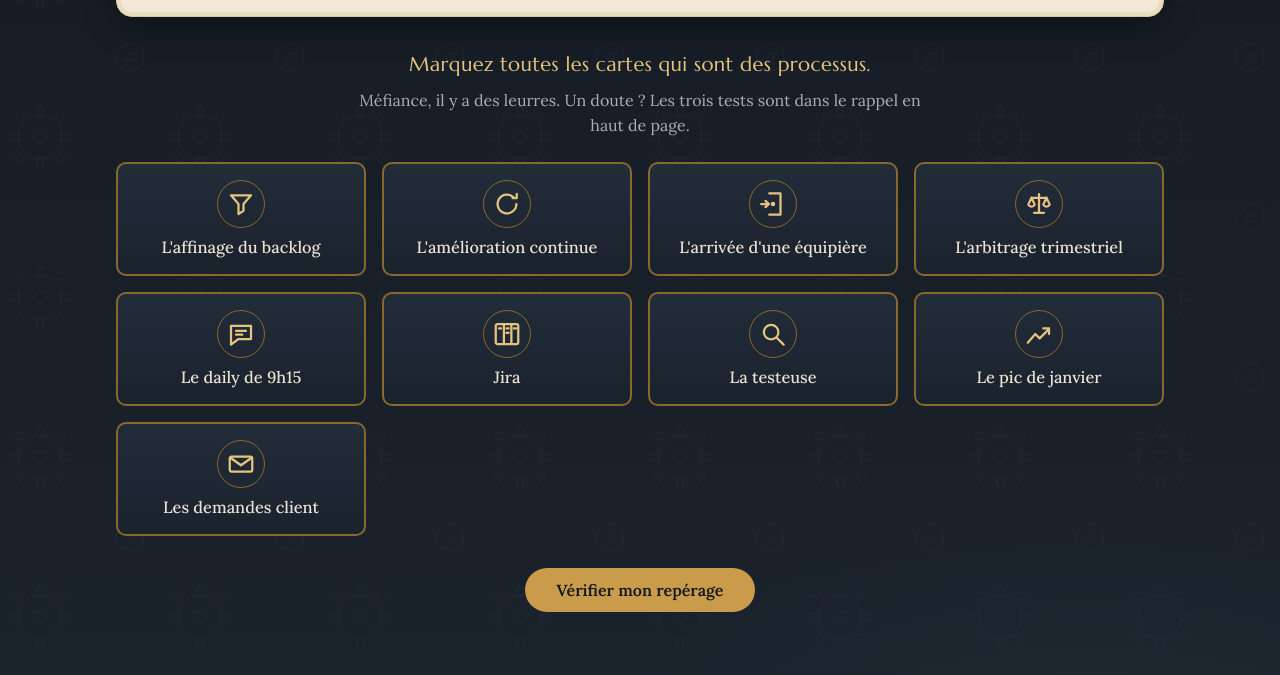
Test: SpottingBoard › révèle le tampon de nature et le pourquoi sur un leurre coché
The image size is (1280, 675).
(page scrolled)
Click the button "Jira" at (507, 349), box [382,292,632,406]
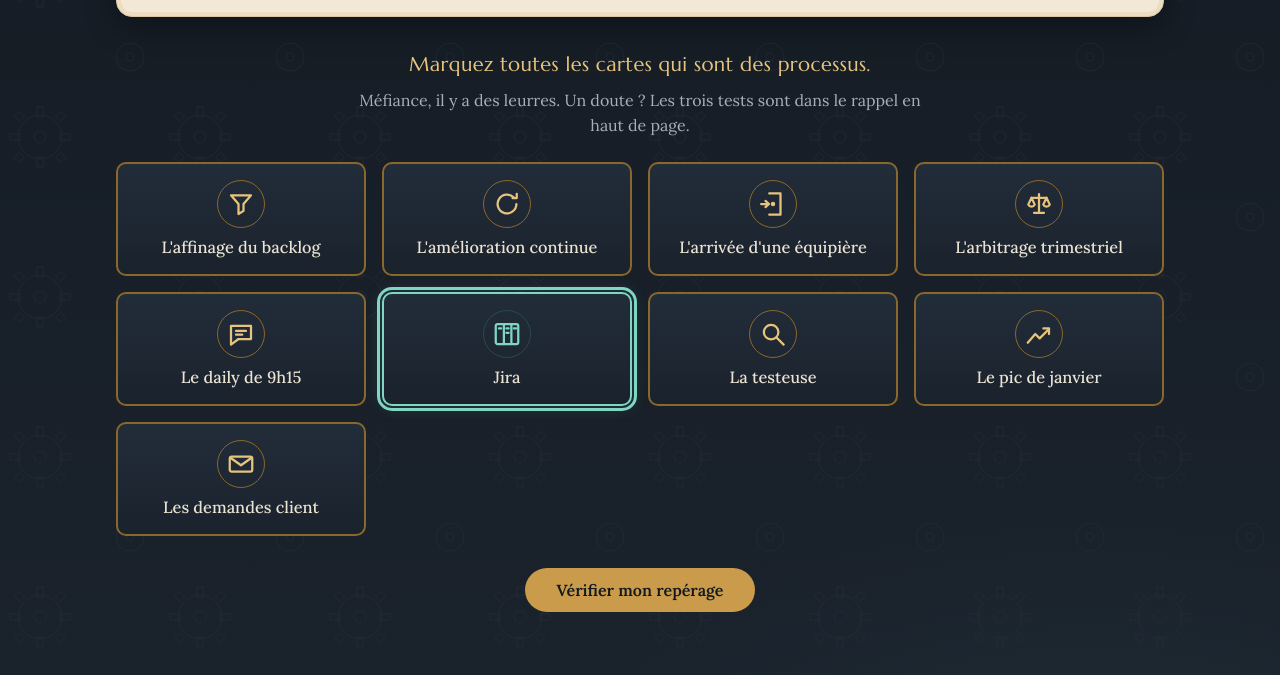
Click the button "Vérifier mon repérage" at (640, 590), box [524,568,756,612]
(page scrolled)
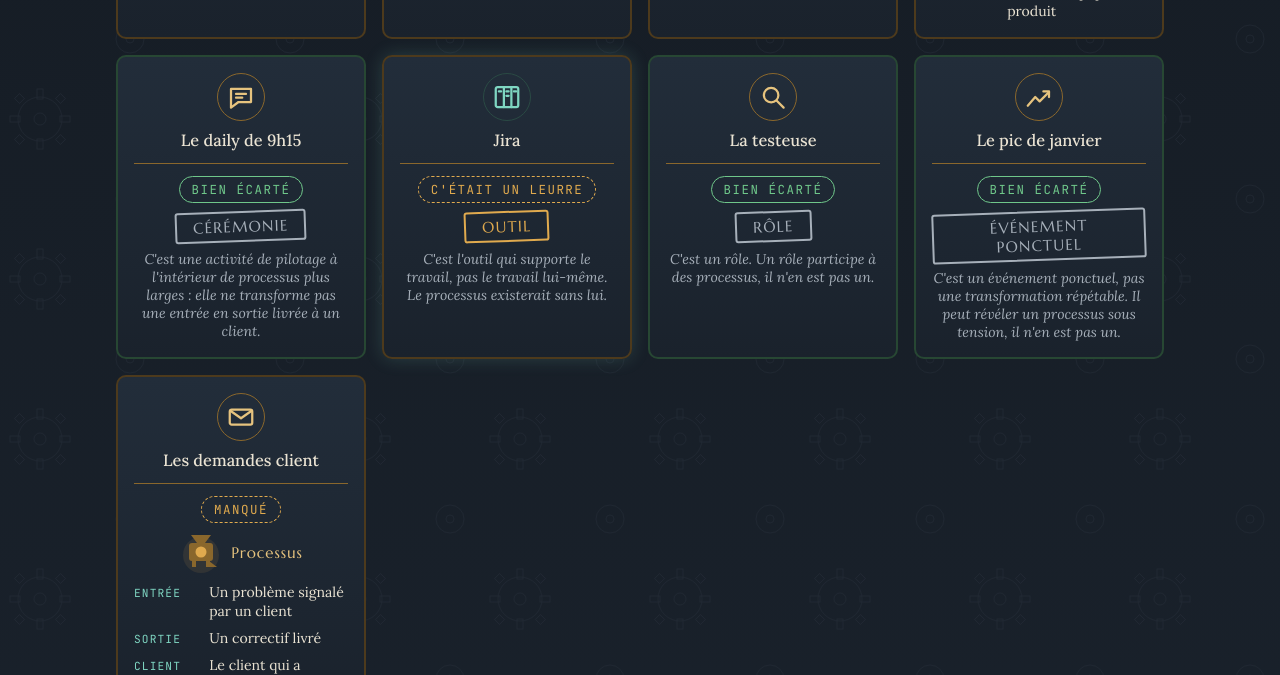
Result: the text "C'était un leurre" is shown at [418,176,596,203]
Result: the text "Outil" is shown at [464,209,550,243]
Result: the text "l'outil qui supporte le travail, pas le travail lui-même" is shown at [406,250,608,304]
